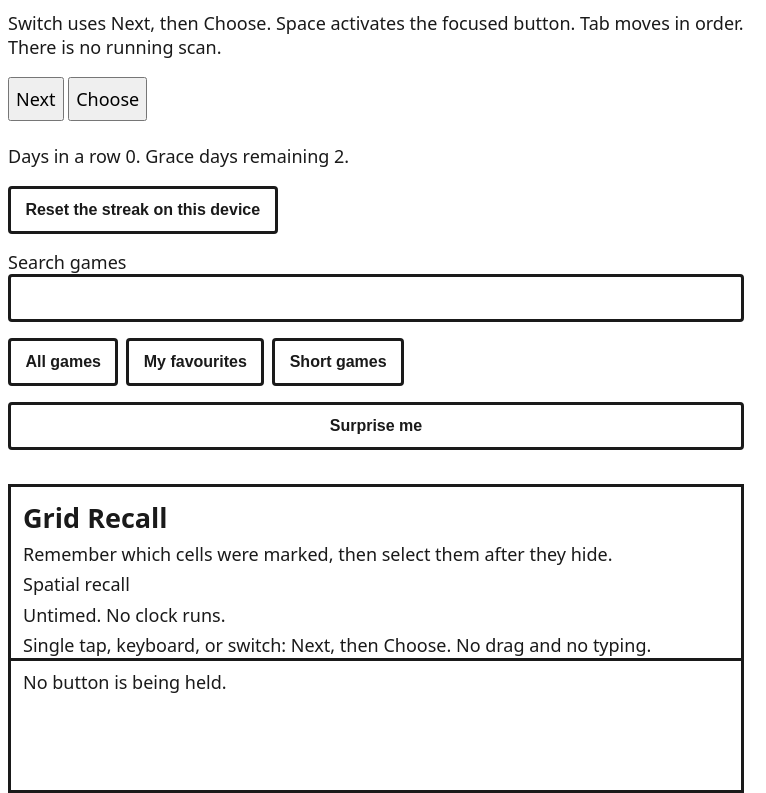
Test case: dwell select on the games hub › puts the cursor in the search box by dwell, and offers a button that clears the search
(page scrolled)
Expected: the button "Clear the search" is not shown
Hover over the field labelled "Search games" at (376, 298), box [8,274,744,322]
Wait 1000 ms
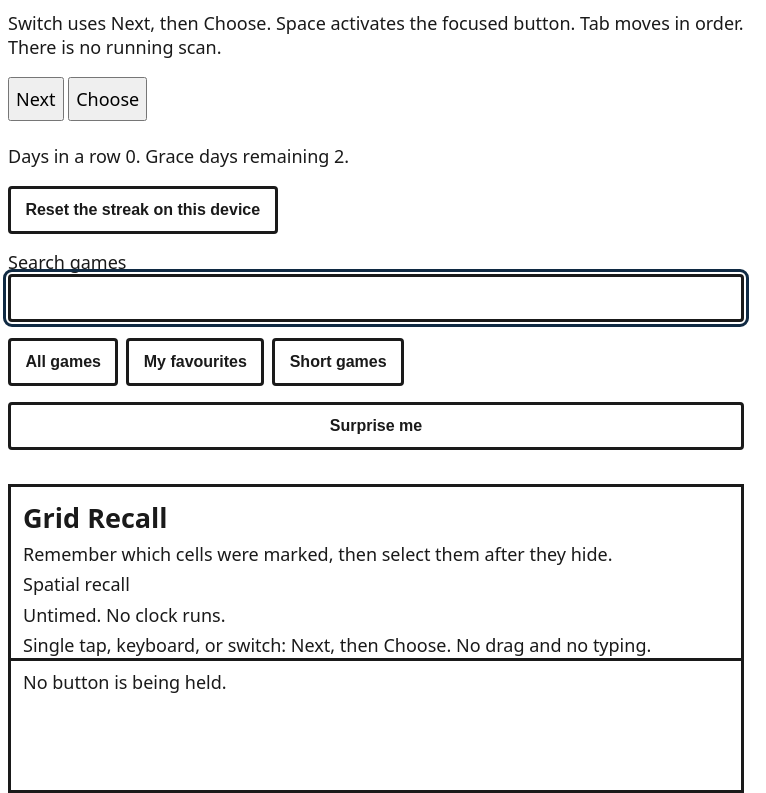
Expected: the text "Holding the text box: Search games. The cursor will move into it." is shown, [23,670,227,694]
Type "jug" into the field labelled "Search games" at (376, 298), box [8,274,744,322]
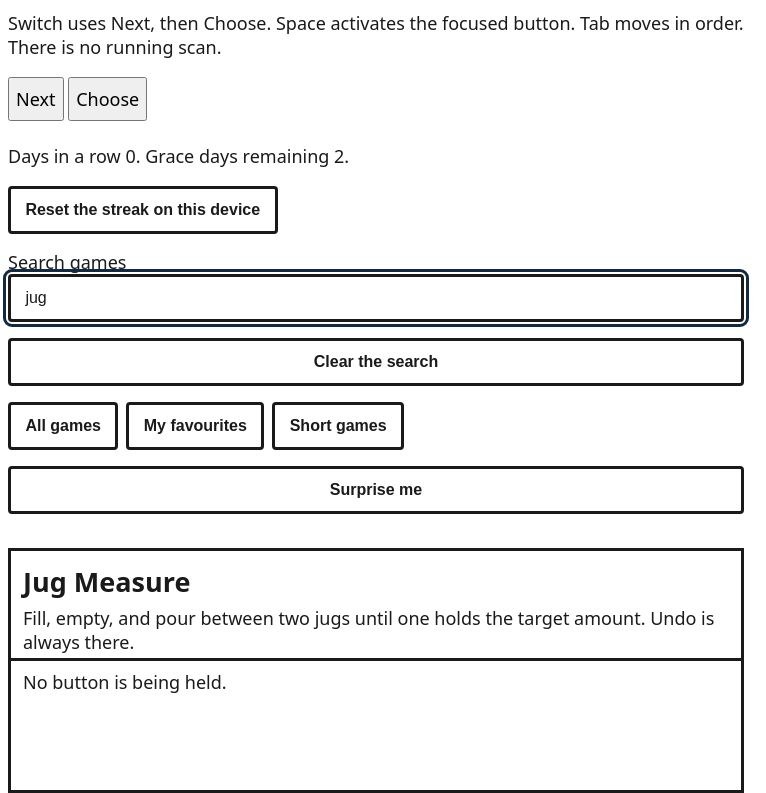
Hover over the button "Clear the search" at (376, 362), box [8,338,744,386]
Wait 1000 ms
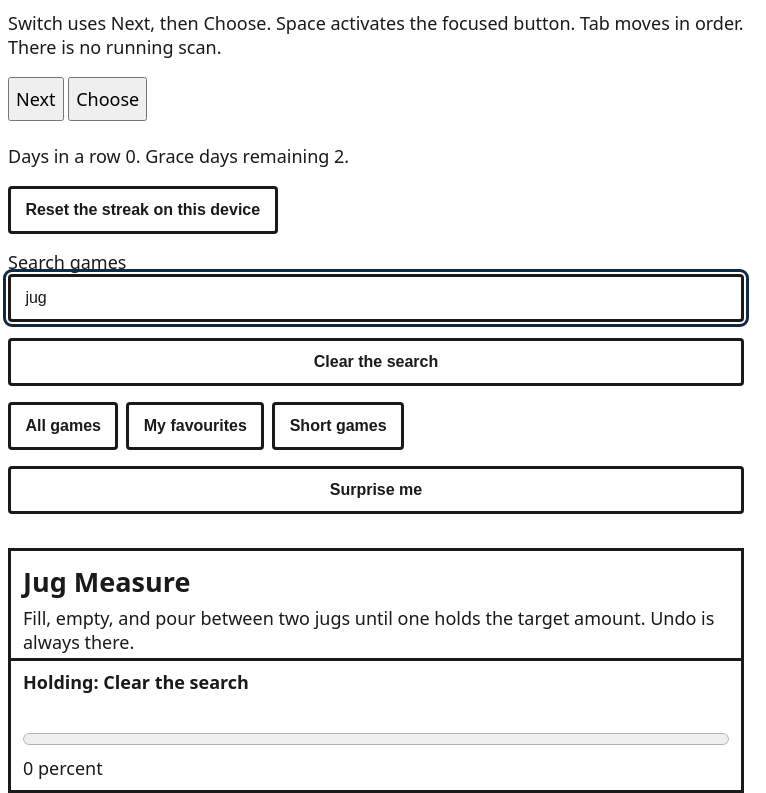
Click the button "Clear the search" at (376, 362), box [8,338,744,386]
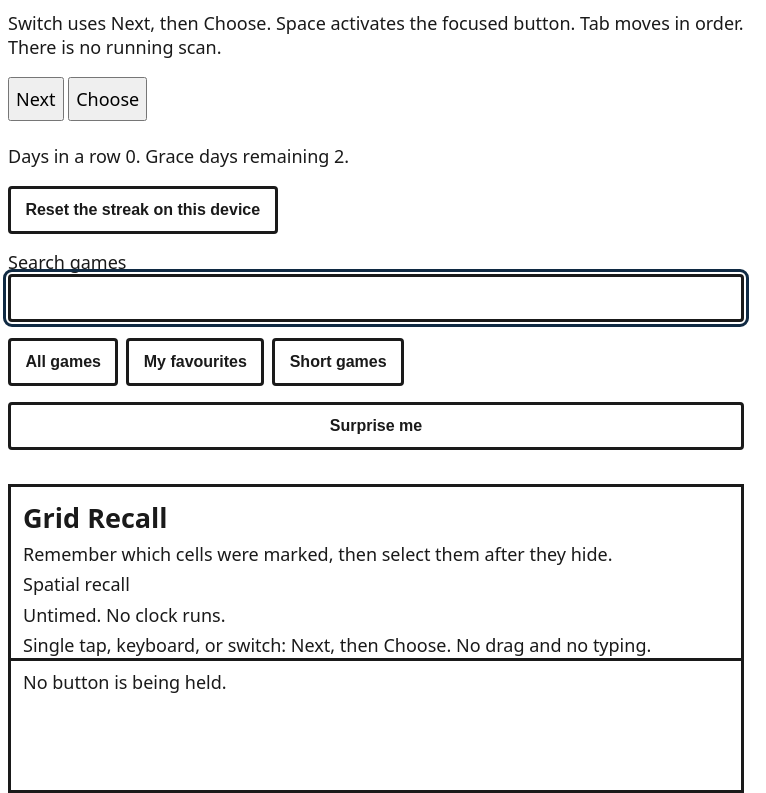
Expected: the field labelled "Search games" is empty, [8,274,744,322]
Expected: the button "Clear the search" is gone
